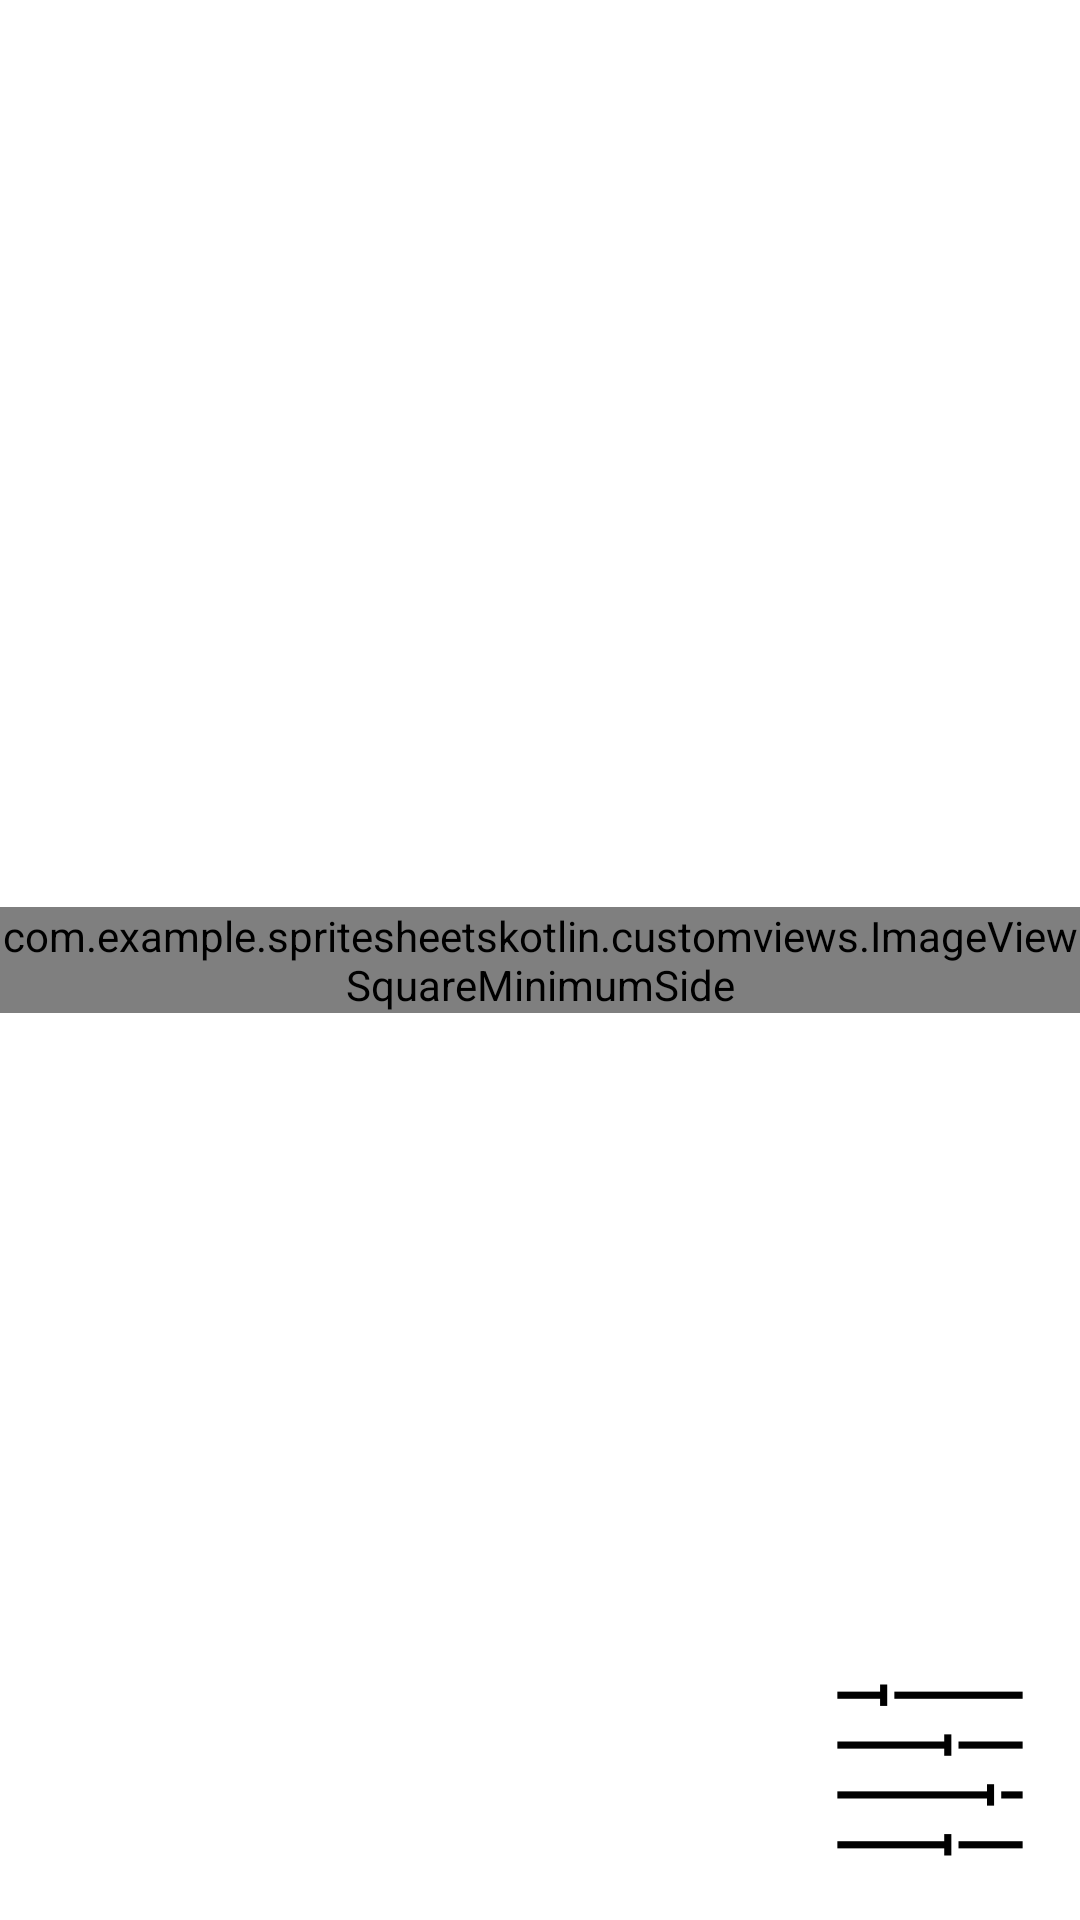

Named icons in this screenshot (1080*1920) and their bounding boxes, (x1, y1, x2, y2):
settings: (837, 1684, 1023, 1856)
